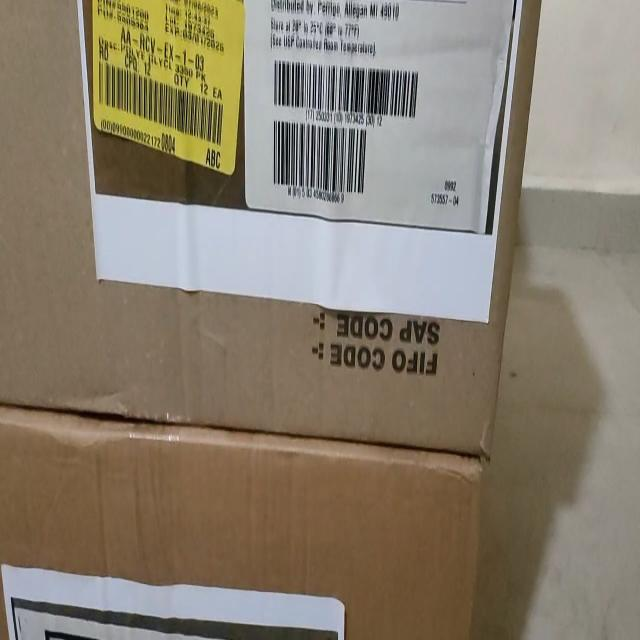BoxFace: (1, 1, 536, 461), (0, 399, 488, 637)
